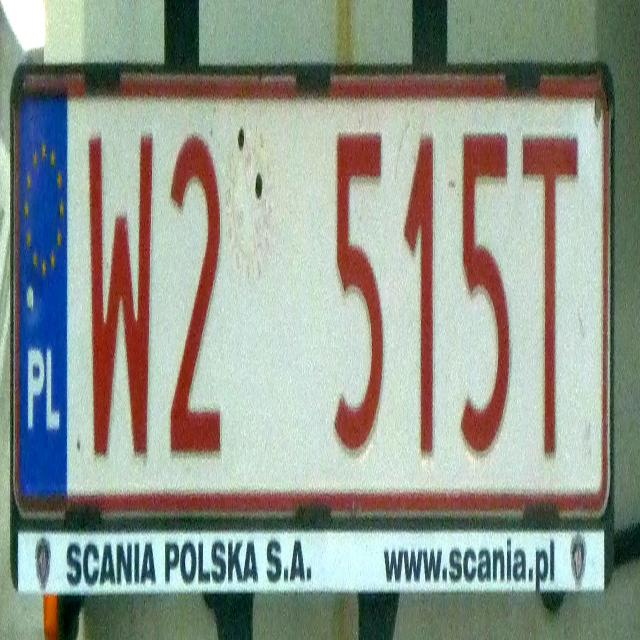pl_license_plate: (16, 83, 609, 501)
